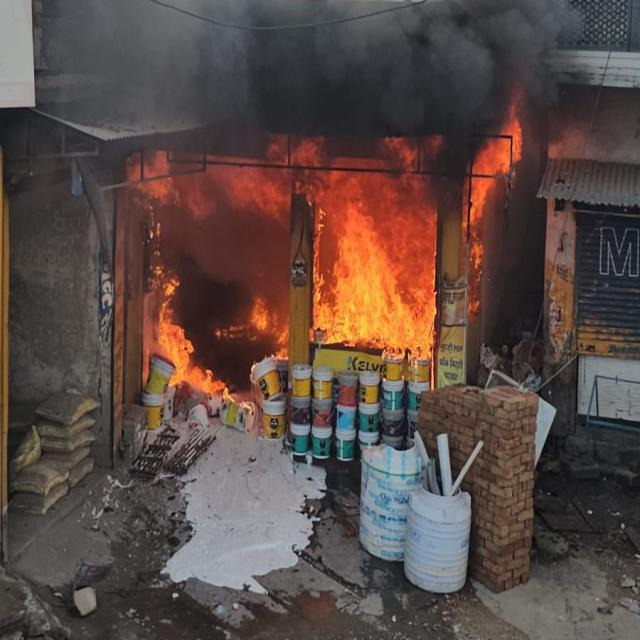fire: (124, 138, 293, 278), (293, 137, 399, 346), (462, 90, 523, 326), (143, 263, 233, 401), (400, 132, 447, 389)
